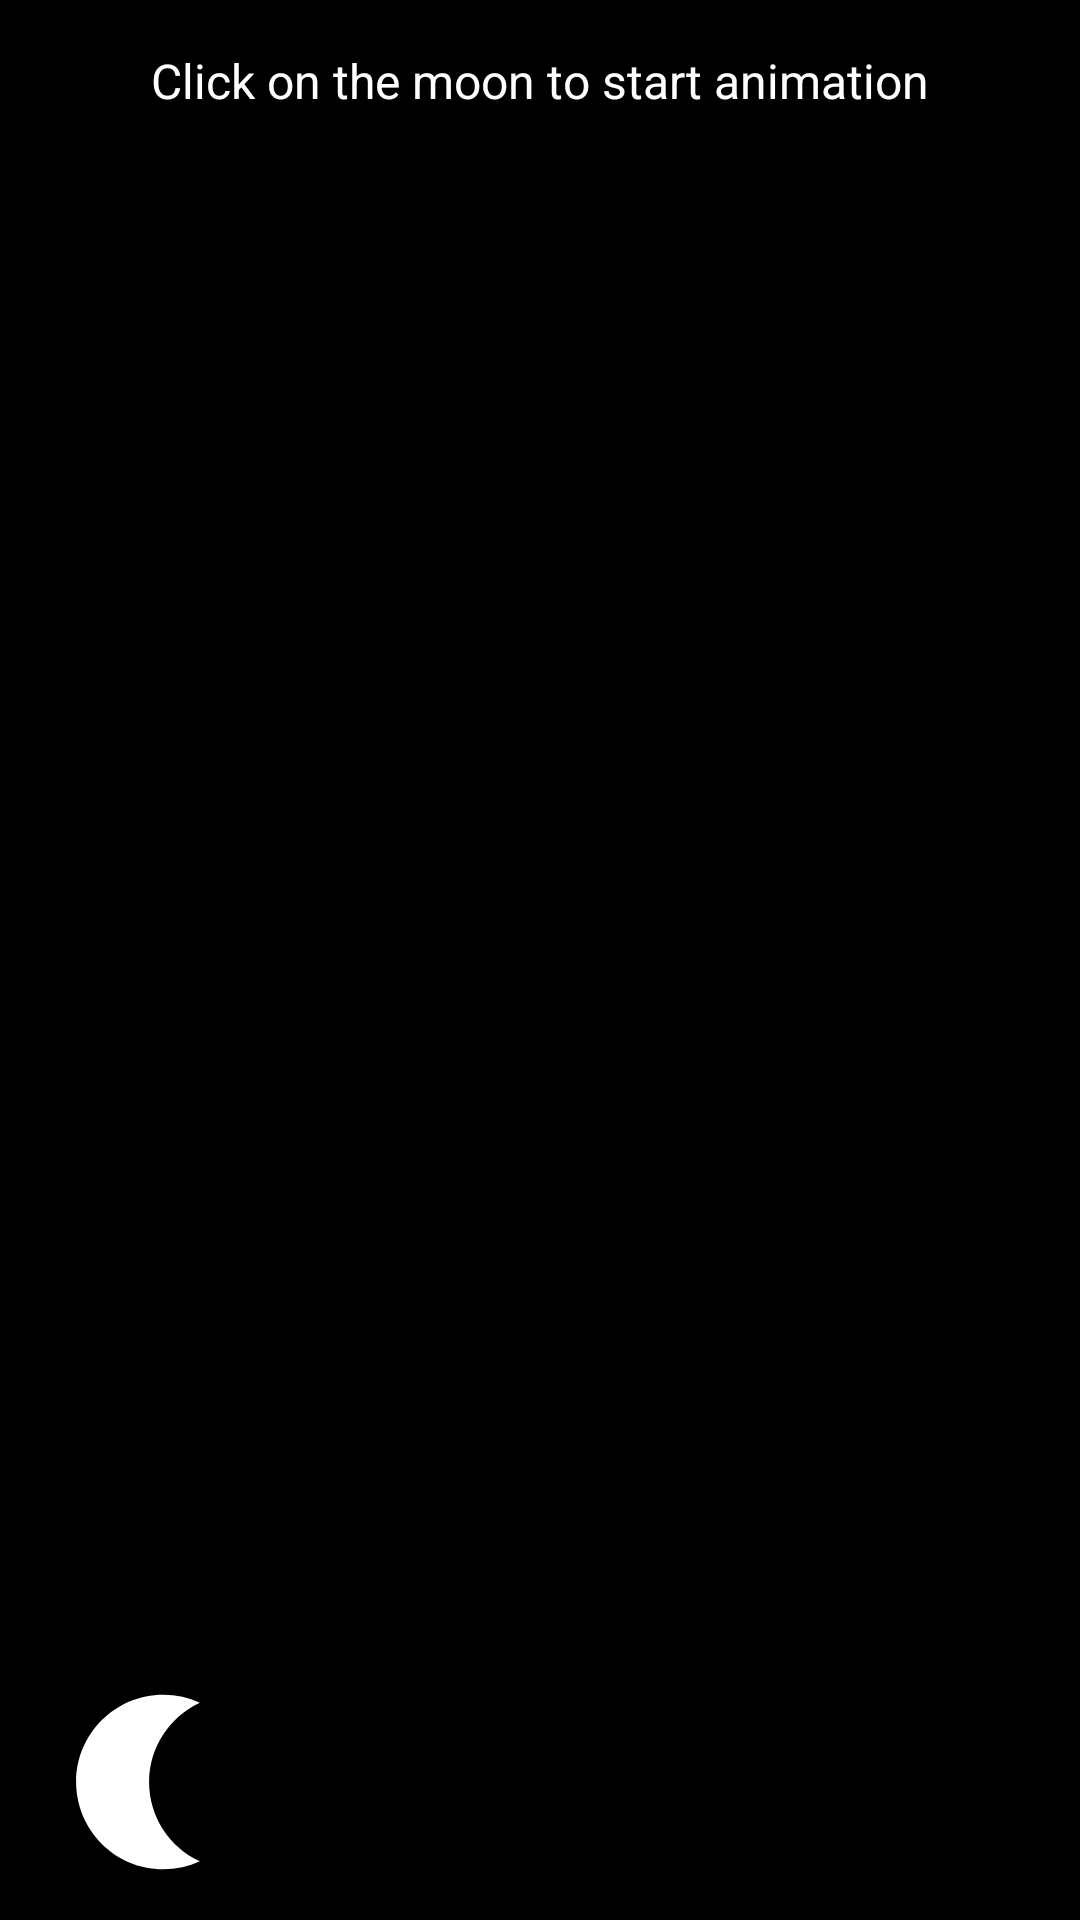

Where icons sit on this 1080px x 1920px app screen, as (x1, y1, x2, y2):
Moon: (76, 1694, 200, 1870)
